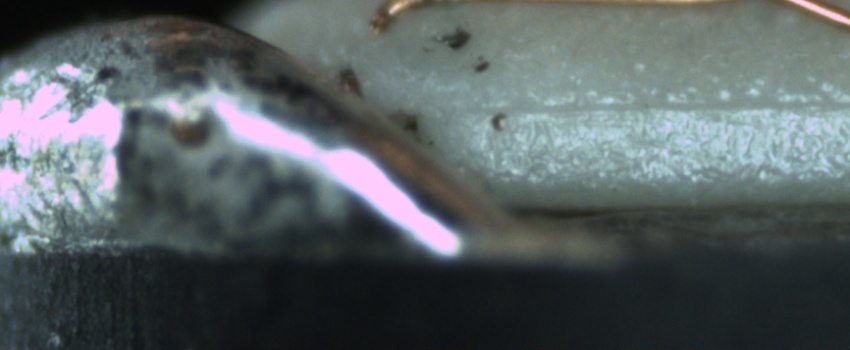DL: (480, 74, 849, 138)
